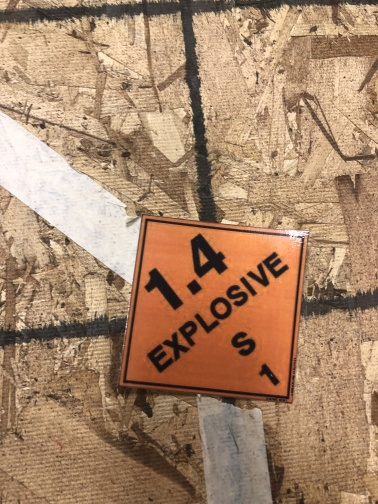Explosive: (118, 215, 310, 404)
